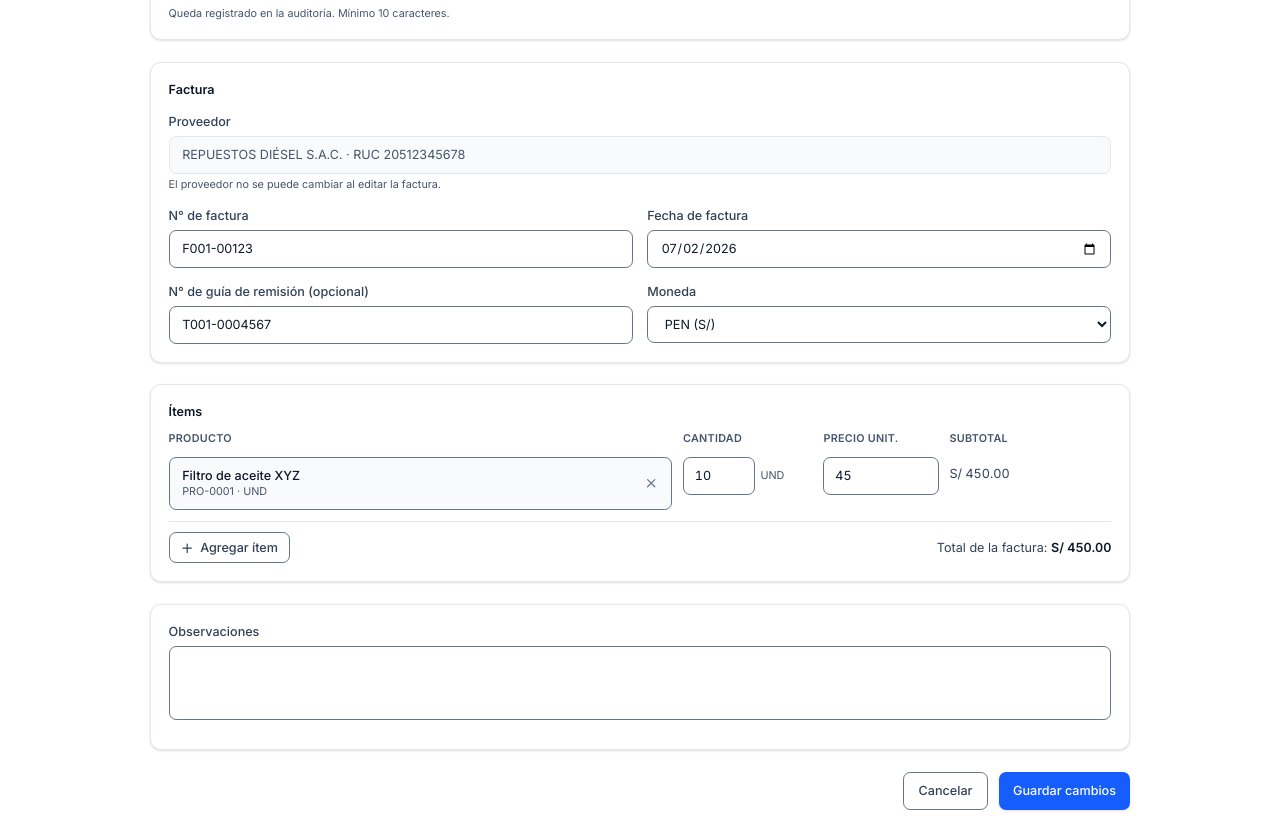
Test: EntryEditPage › exige el motivo cuando se deja vacío
The image size is (1280, 838).
(page scrolled)
Click the button "Guardar cambios".
click(1064, 791)  # box [999,772,1130,810]
(page scrolled)
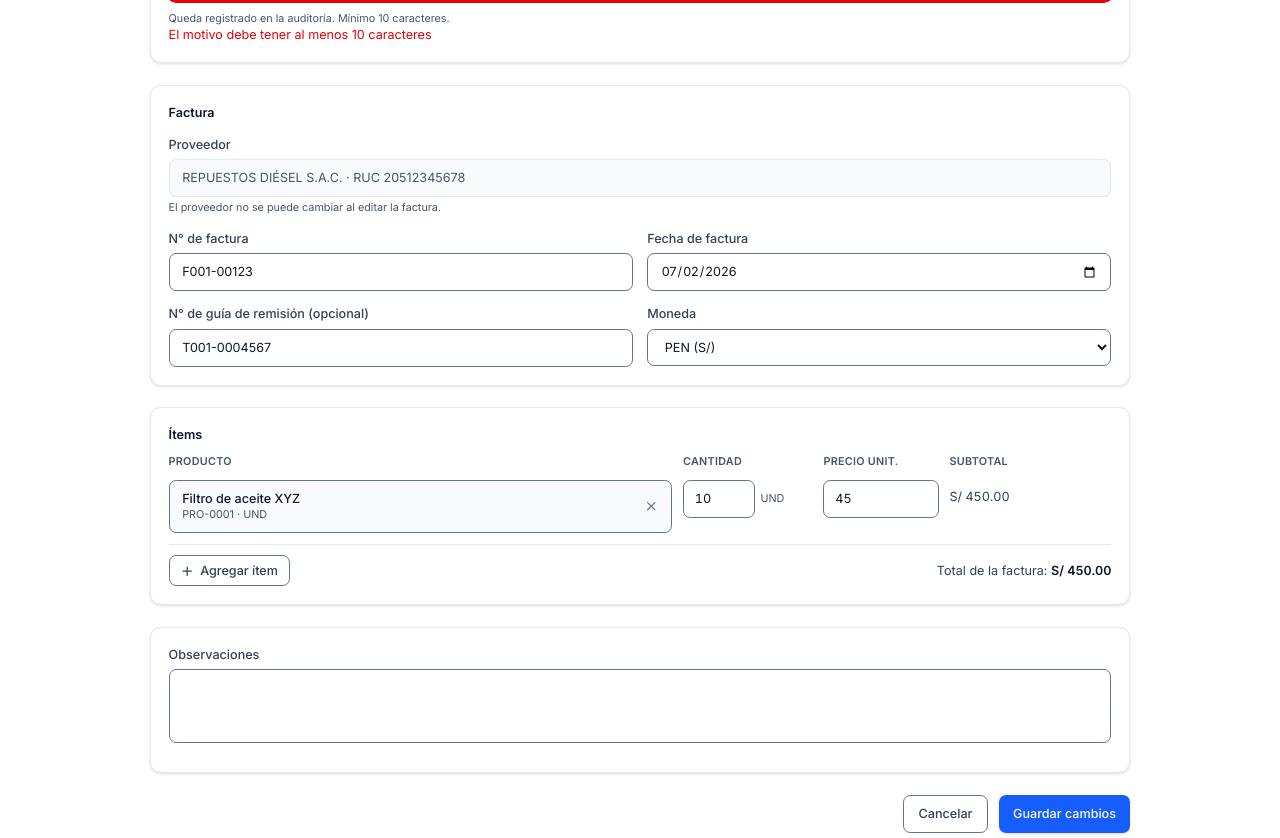
Expected: the text "El motivo debe tener al menos 10 caracteres" is shown, [169,27,432,42]
